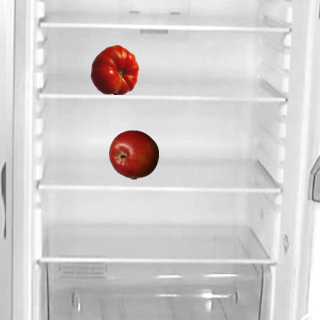Apple Braeburn: (108, 129, 158, 179)
Tomato 3: (89, 44, 139, 94)
